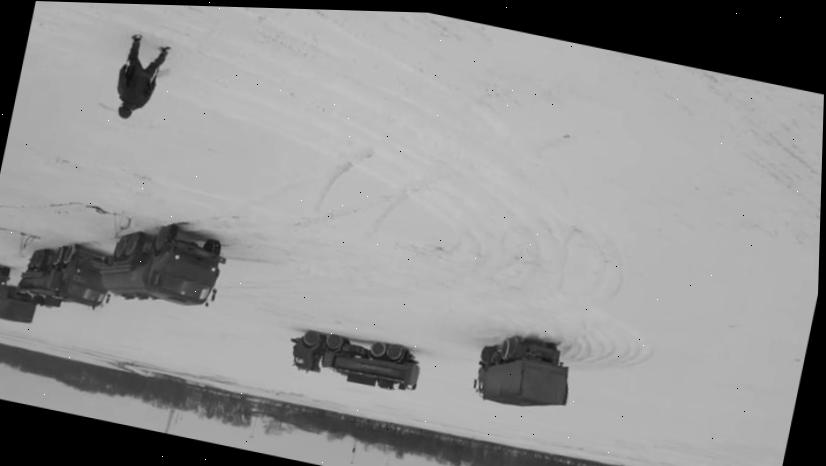person: (106, 31, 172, 127)
truck: (94, 211, 229, 317), (281, 320, 425, 395), (469, 328, 579, 418), (15, 235, 121, 319), (0, 282, 40, 323), (0, 259, 12, 310)
